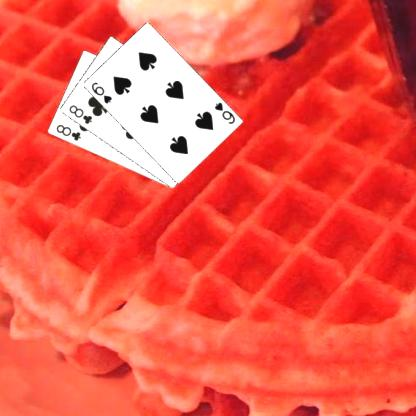6S: (88, 79, 113, 105), (212, 100, 236, 126)
8C: (66, 102, 93, 125), (53, 122, 82, 142)
